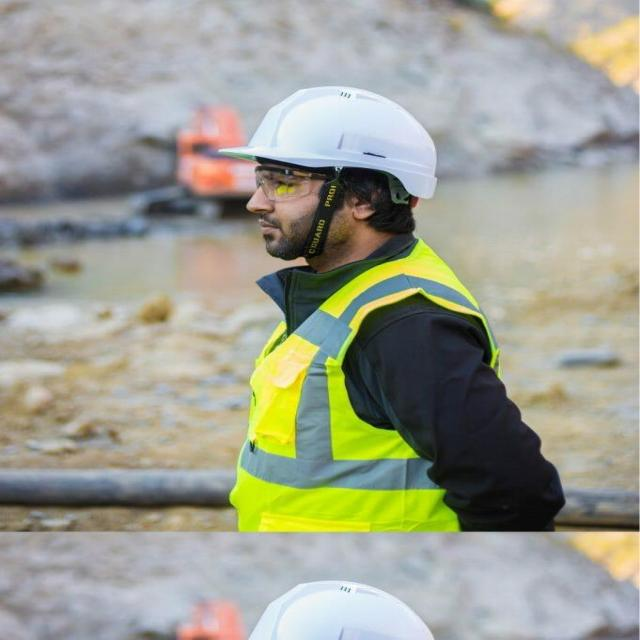goggles: (225, 156, 378, 206)
helmet: (210, 82, 445, 203)
vest: (235, 252, 450, 532)
